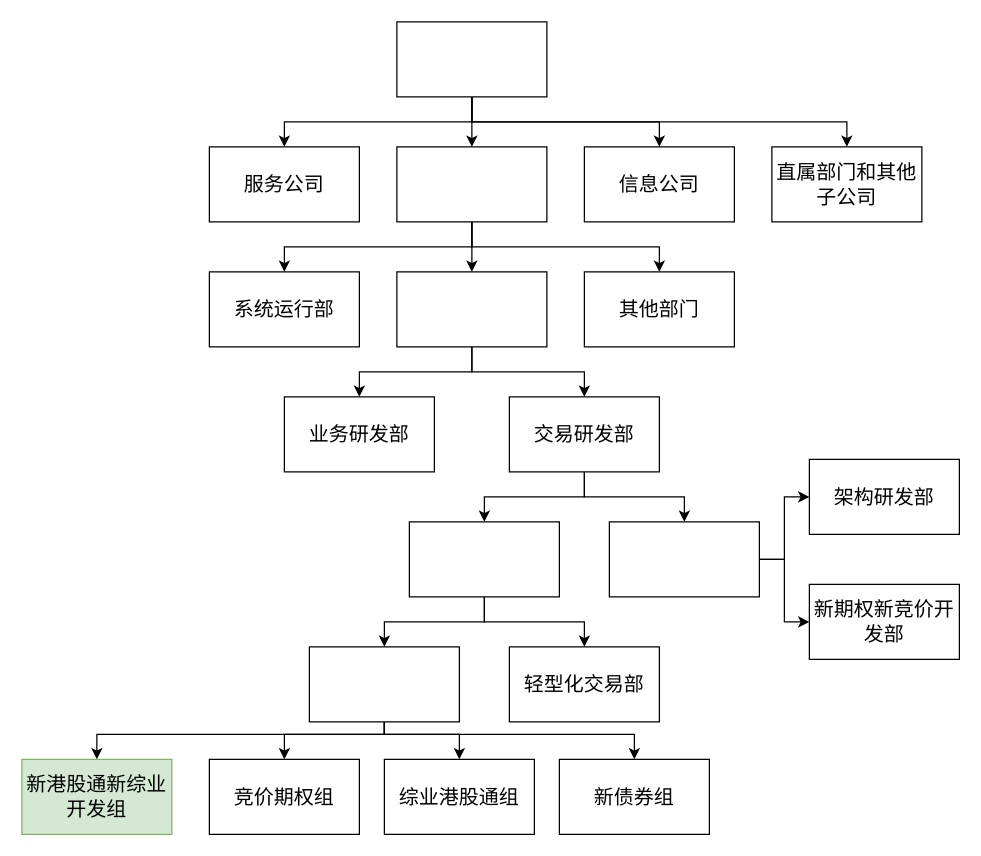
The diagram is 981 pixels wide and 856 high, and some of its shapes have lost their labels. The centre of each missing label's shape, as x and y in pixels:
上海证券交易所: (471,59)
实时交易部: (383,684)
技术公司: (471,184)
技术开发部: (471,309)
研发一部: (483,559)
研发二部: (683,559)
